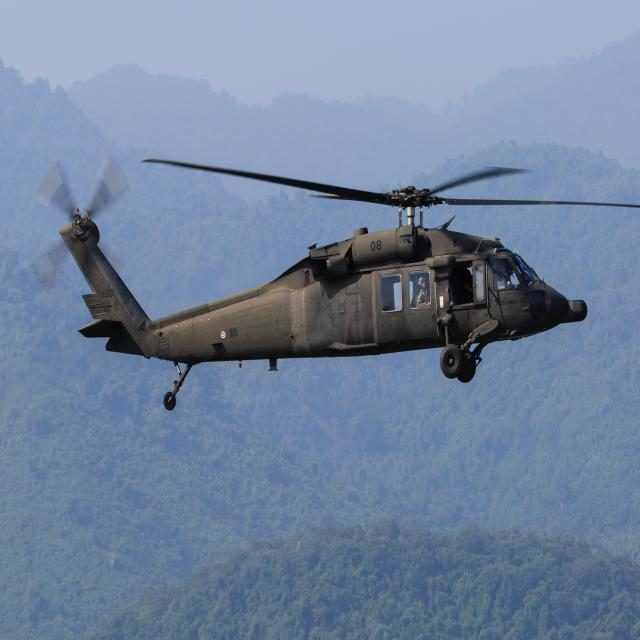helicopter: (34, 143, 640, 414)
